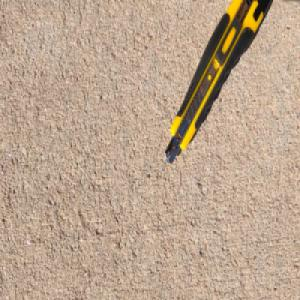Cutter: (163, 0, 271, 163)
